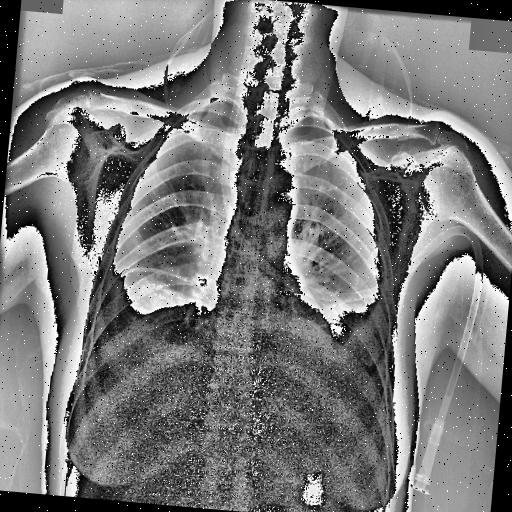10- Pleural effusion: (89, 218, 211, 396), (250, 281, 397, 419), (80, 266, 220, 404), (81, 262, 179, 382), (310, 258, 396, 392), (292, 299, 390, 402)
13- Pulmonary fibrosis: (124, 265, 197, 283)
7- Lung Opacity: (116, 260, 218, 342), (320, 282, 378, 344)
